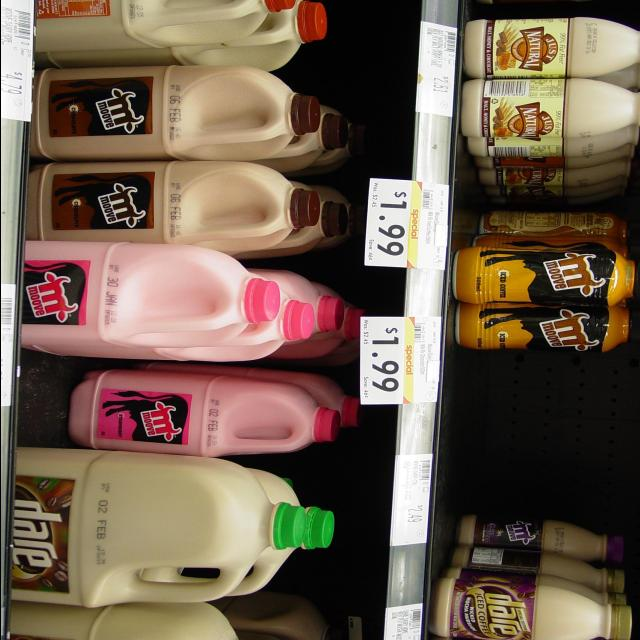empty_space: (451, 356, 632, 512)
